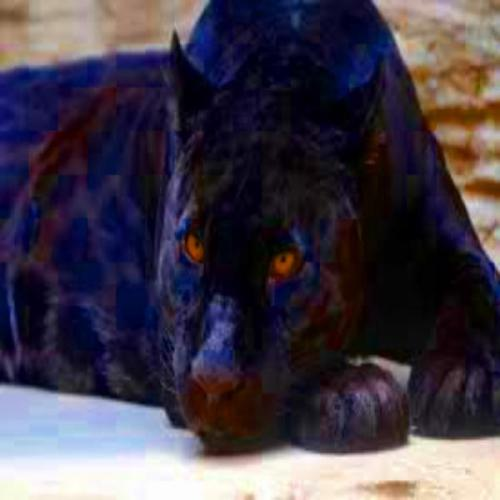panther-endangered: (0, 8, 499, 455)
